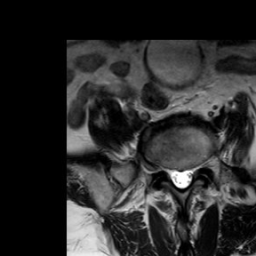CCS_normal: (176, 158, 184, 197)
LFS_stenosis: (193, 151, 202, 180)
LLS_normal: (184, 158, 193, 192)
RFS_stenosis: (160, 155, 168, 180)
RLS_normal: (168, 158, 176, 190)
